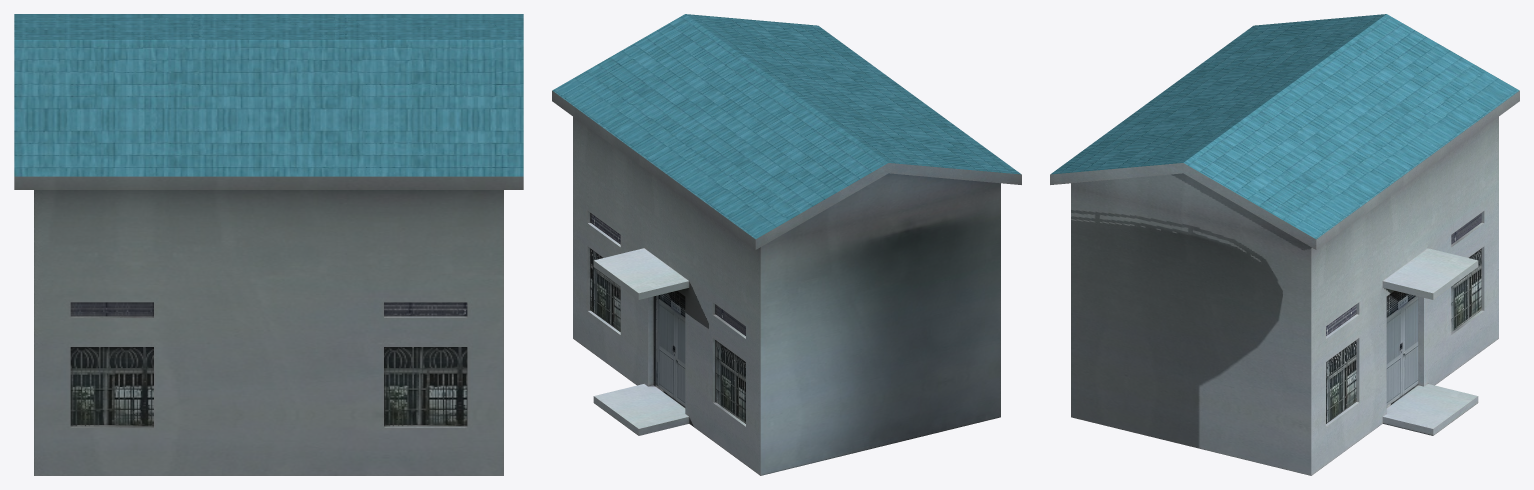
File: build4YNSCYQ.glb
3 views of the same model, side by side, from view 1: azimuth 30°, elevation 25°; view 2: azimuth 150°, elevation 25°; view 3: azimuth 270°, elevation 25° (orthographic). The views are drawn at different scales.
Visible parts, largest first — view 1: bulid4YNSCYQ; view 2: bulid4YNSCYQ; view 3: bulid4YNSCYQ.
Part boxes in pixels (x1=…): bulid4YNSCYQ: x1=14, y1=14, x2=523, y2=475; bulid4YNSCYQ: x1=552, y1=14, x2=1021, y2=475; bulid4YNSCYQ: x1=1050, y1=14, x2=1519, y2=475.
Bounding box in the file's own units: 1285 × 811 × 1192.
Materials: 1 (1 with a texture image).
